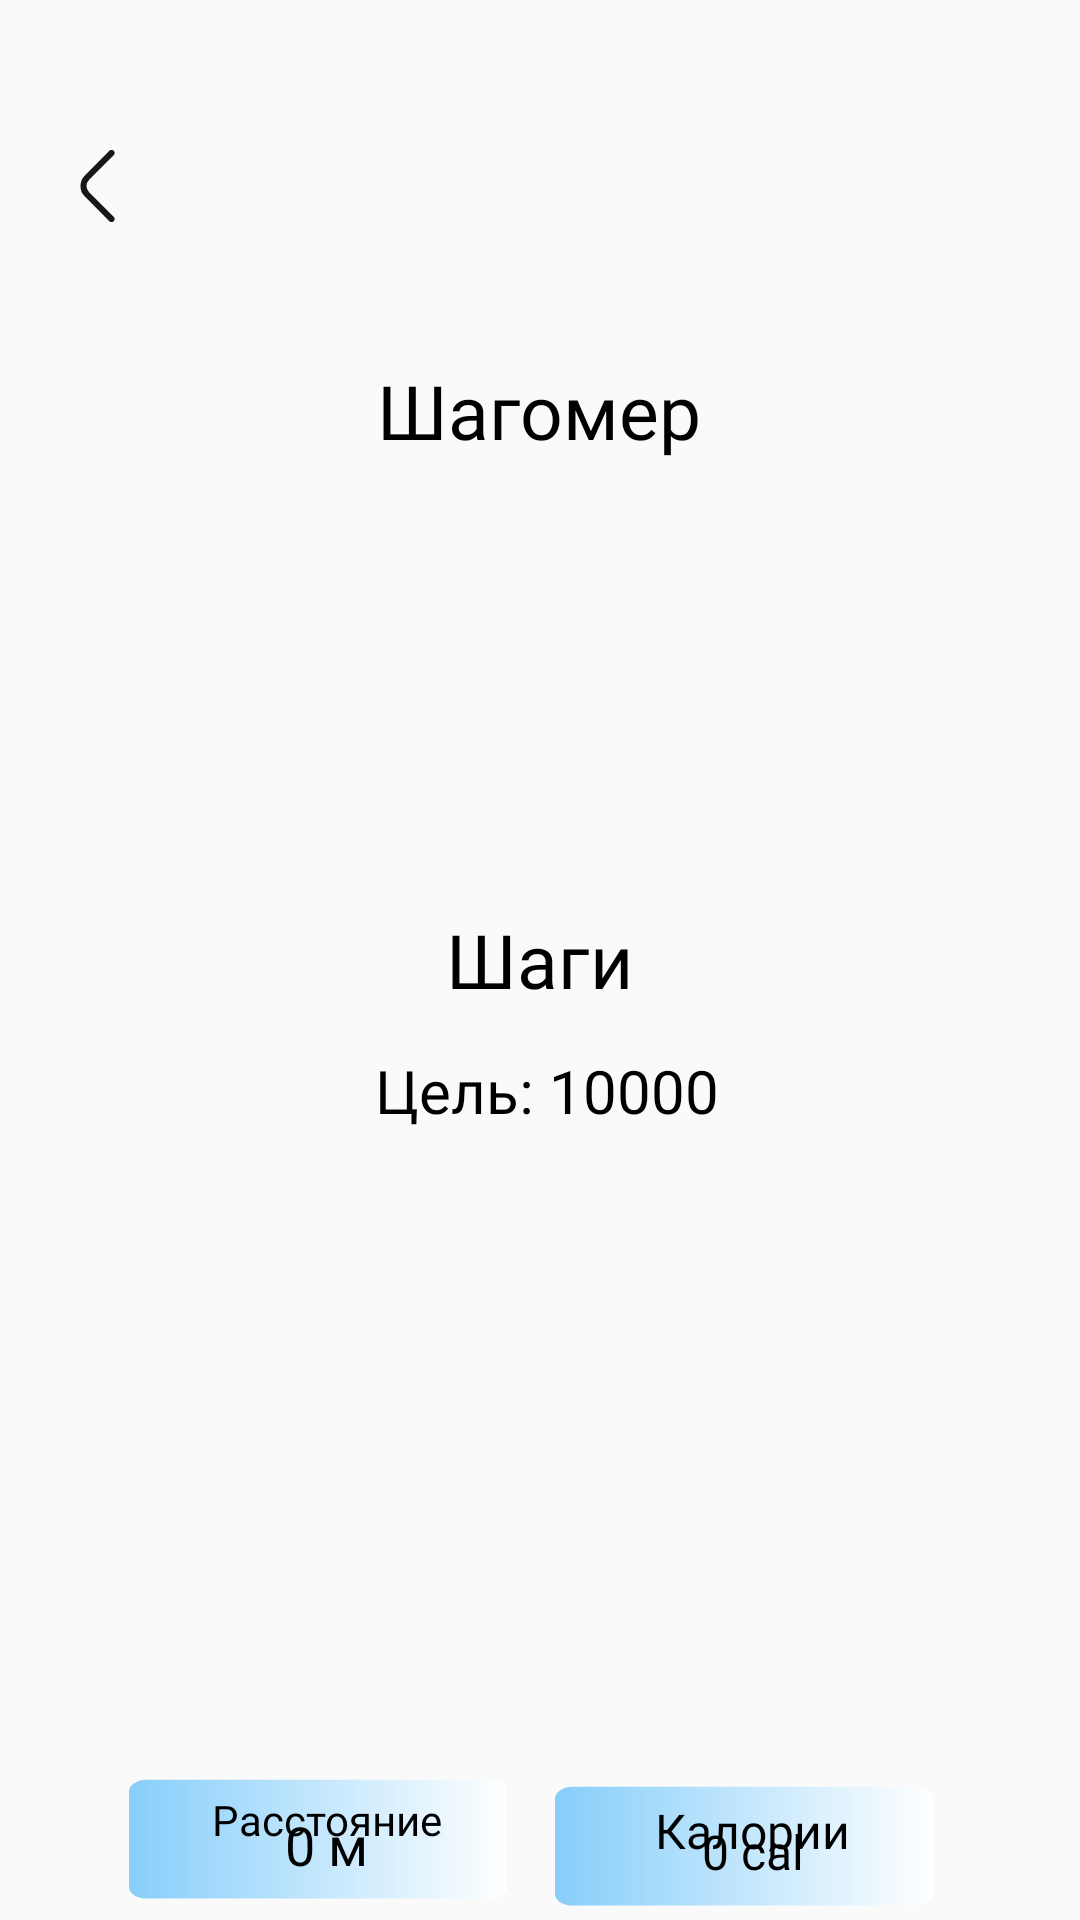

Named icons in this screenshot (1080 x 1920) and their centers, [x,y]:
arrow back: [97,186]
